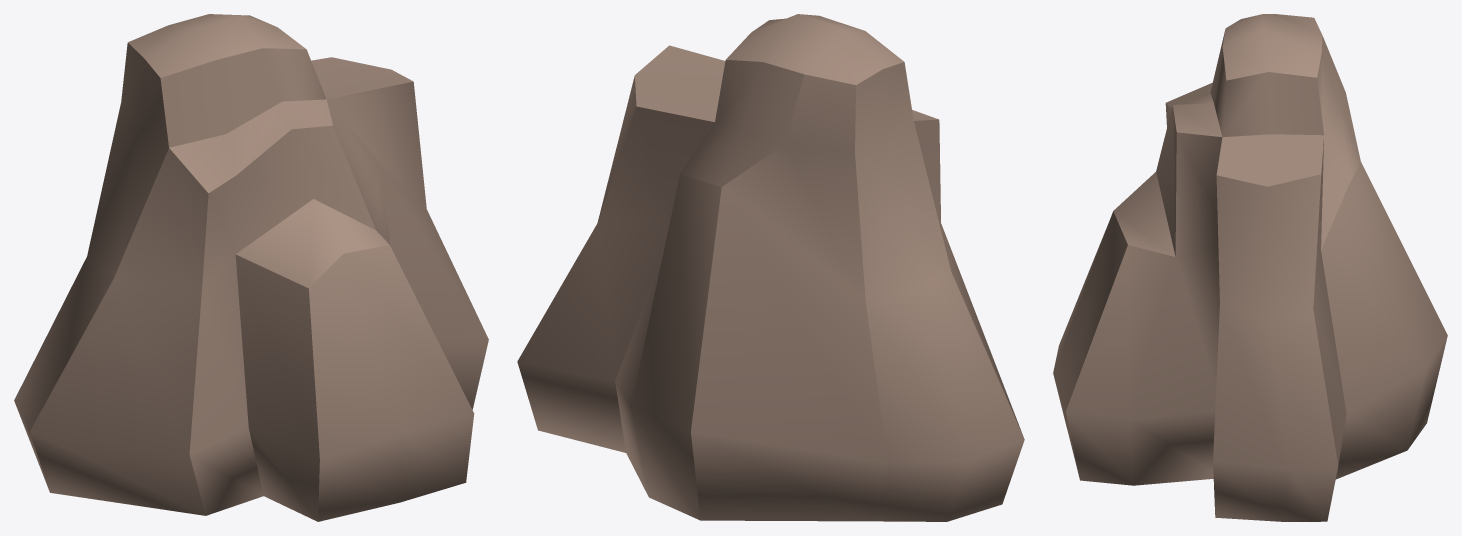
Rendered from Rock2_big.fbx.
3 views of the same model, side by side, from view 1: azimuth 30°, elevation 25°; view 2: azimuth 150°, elevation 25°; view 3: azimuth 270°, elevation 25° (orthographic). The views are drawn at different scales.
Parts seen in each view (by area): view 1: BigRock3.005; view 2: BigRock3.005; view 3: BigRock3.005.
Boxes of the visible parts, x1,y1,x2,y2 form: BigRock3.005: [14, 14, 488, 521]; BigRock3.005: [517, 14, 1024, 521]; BigRock3.005: [1053, 14, 1447, 521].
Bounding box in the file's own units: 946 × 871 × 789.
